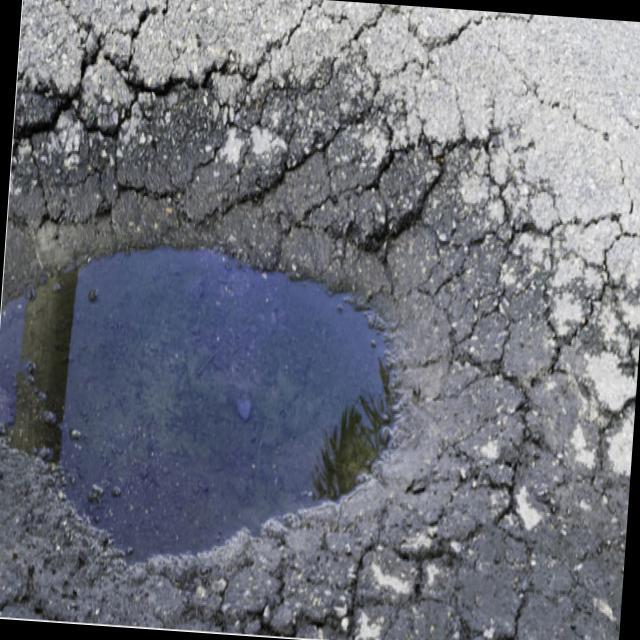Pothole: (8, 89, 444, 612)
